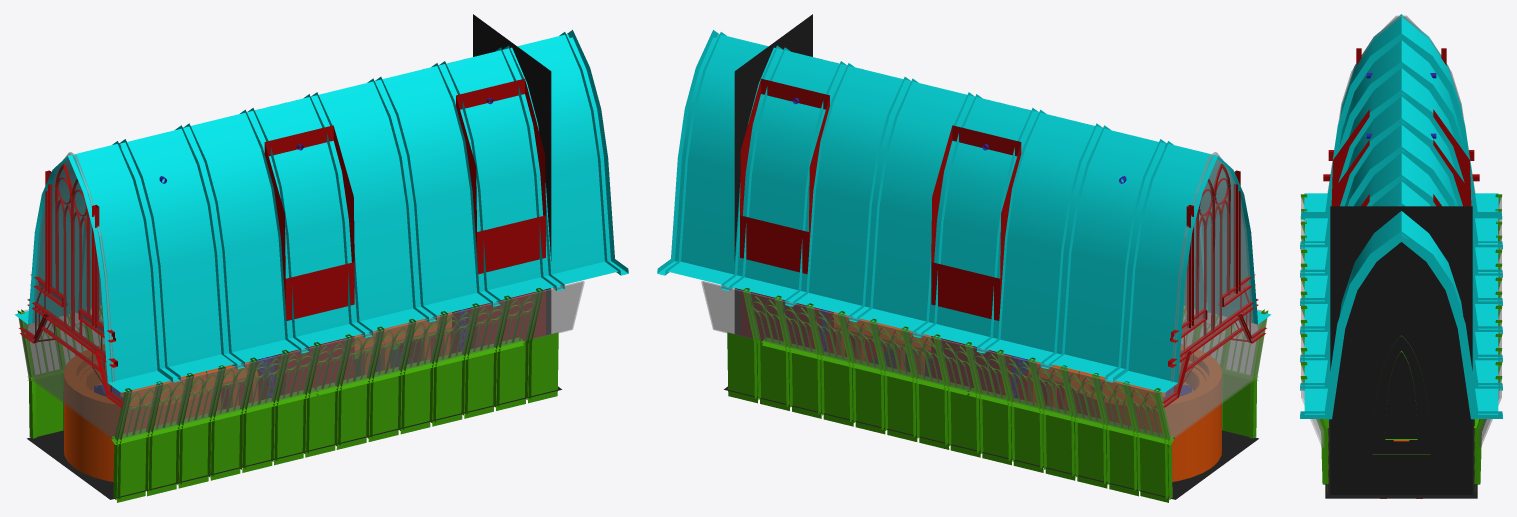
Rendered from Big Composing FINAL Multi tile union.fbx.
3 views of the same model, side by side, from view 1: azimuth 30°, elevation 25°; view 2: azimuth 150°, elevation 25°; view 3: azimuth 270°, elevation 25° (orthographic). The views are drawn at different scales.
Visible parts, largest first — view 1: polySurface2100; view 2: polySurface2100; view 3: polySurface2100.
Part boxes in pixels (x1,y1,x2,y2): polySurface2100: (14,14,628,502); polySurface2100: (657,14,1271,502); polySurface2100: (1300,14,1502,498).
Size of the model in its own units: 128 by 80.02 by 49.29.
